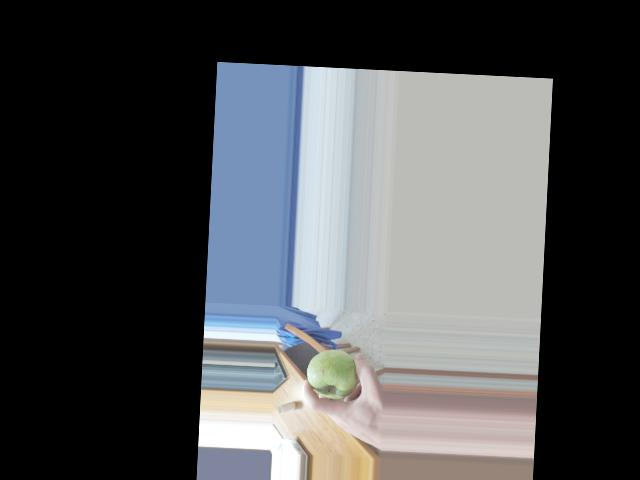apple: (303, 347, 361, 400)
